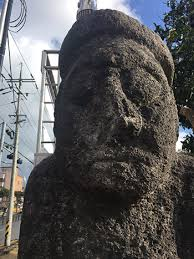Stone Statue: (12, 8, 194, 259)
